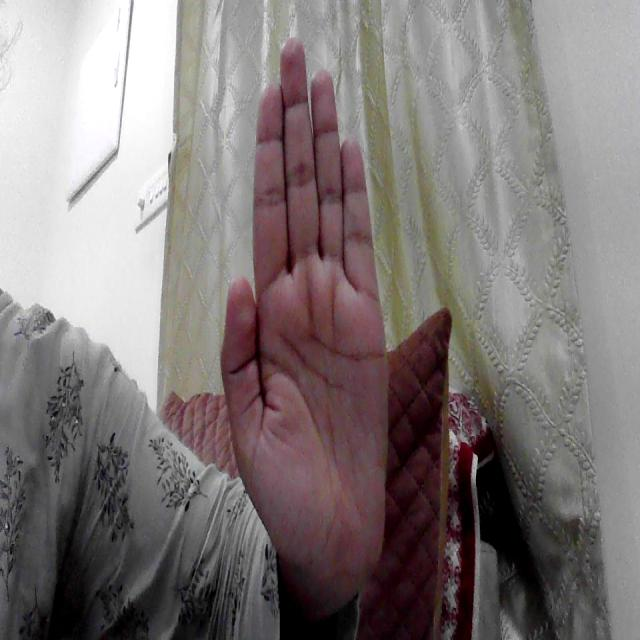Pataka: (220, 22, 405, 600)
